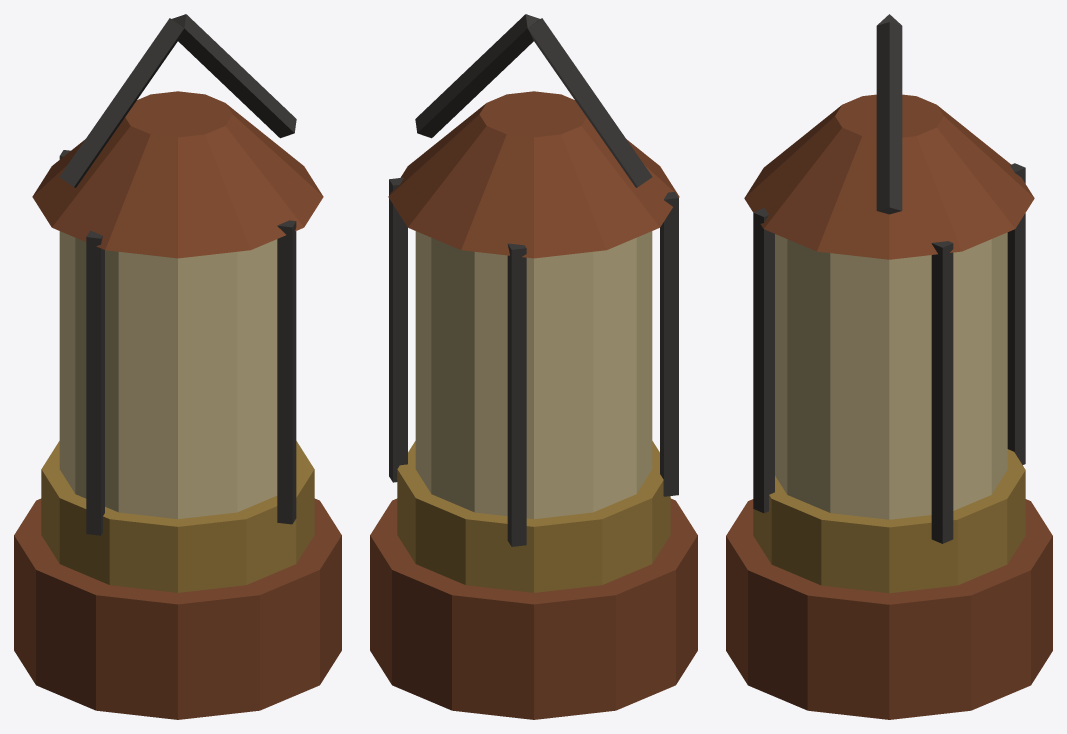
File: TownLantern.glb
3 views of the same model, side by side, from view 1: azimuth 30°, elevation 25°; view 2: azimuth 150°, elevation 25°; view 3: azimuth 270°, elevation 25° (orthographic).
Visible parts, largest first — view 1: TownLantern.001; view 2: TownLantern.001; view 3: TownLantern.001.
Part boxes in pixels (x1,y1,x2,y2): TownLantern.001: (14,14,341,719); TownLantern.001: (370,14,697,719); TownLantern.001: (726,14,1052,719).
Bounding box in the file's own units: 0.18 × 0.3846 × 0.18.
